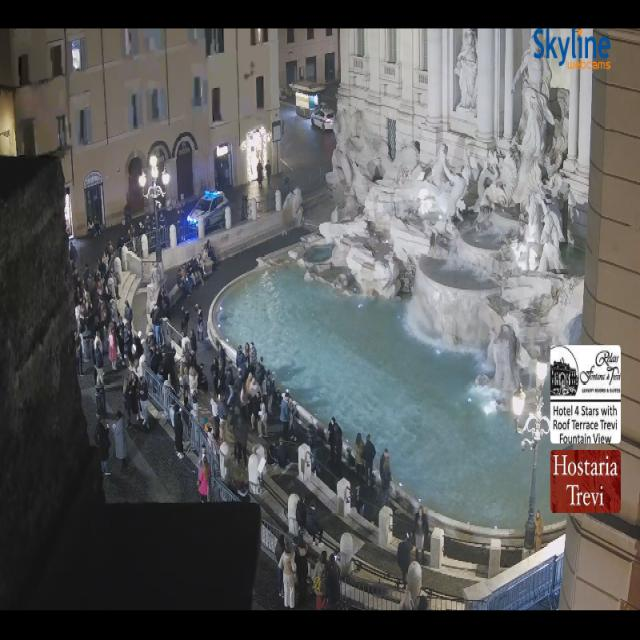person: (81, 281, 122, 352), (80, 275, 119, 347), (84, 289, 114, 355), (83, 253, 120, 305), (176, 348, 207, 407), (84, 250, 120, 298), (114, 313, 139, 367), (114, 315, 139, 368), (87, 295, 108, 358), (86, 284, 107, 343), (83, 249, 111, 293), (159, 347, 179, 404), (93, 281, 108, 355), (279, 544, 296, 608), (226, 352, 247, 402), (85, 255, 107, 301), (150, 294, 168, 349), (100, 286, 116, 347), (203, 418, 222, 469), (220, 365, 241, 411), (177, 255, 203, 292), (220, 364, 243, 405), (83, 280, 99, 338), (124, 206, 143, 254), (312, 551, 327, 610), (90, 280, 103, 347), (87, 259, 105, 306), (97, 254, 115, 301), (112, 410, 127, 466), (296, 536, 308, 606), (414, 506, 428, 563), (305, 500, 323, 544), (93, 302, 107, 358), (229, 377, 248, 418), (78, 285, 92, 340), (96, 421, 110, 475), (234, 410, 247, 468), (85, 259, 101, 306), (93, 284, 105, 346), (397, 533, 411, 586), (237, 347, 253, 393), (247, 359, 268, 394), (326, 554, 339, 610), (116, 317, 131, 365), (80, 289, 94, 340), (85, 276, 97, 334), (82, 276, 95, 329), (94, 254, 107, 306), (184, 352, 202, 389), (263, 372, 278, 416), (139, 210, 166, 234), (90, 260, 104, 306), (132, 331, 146, 377), (236, 360, 251, 402), (380, 449, 391, 506), (210, 359, 227, 395), (227, 366, 241, 409), (150, 288, 167, 323), (93, 251, 108, 290), (198, 457, 211, 502), (109, 267, 121, 315), (308, 425, 319, 477), (136, 213, 162, 235), (256, 372, 267, 424), (236, 355, 251, 393), (128, 373, 139, 424), (364, 435, 375, 486), (72, 267, 82, 323), (173, 404, 183, 458), (78, 263, 92, 301), (138, 376, 148, 428), (73, 264, 87, 301), (218, 395, 229, 442), (229, 377, 244, 411), (99, 299, 108, 355), (204, 418, 219, 451), (88, 330, 97, 385), (280, 390, 290, 439), (116, 315, 126, 363), (244, 373, 259, 404), (93, 312, 104, 354), (250, 391, 261, 433), (179, 365, 190, 407), (145, 333, 158, 368), (183, 335, 196, 369), (152, 306, 163, 346), (144, 210, 166, 230), (181, 263, 196, 292), (198, 444, 211, 477), (224, 364, 235, 403), (95, 333, 103, 386), (73, 267, 84, 305), (144, 331, 157, 362), (354, 434, 363, 478), (123, 375, 131, 424), (188, 258, 203, 284), (266, 372, 275, 415), (124, 322, 133, 365), (236, 346, 247, 381), (211, 392, 219, 440), (261, 369, 271, 407), (328, 417, 336, 464), (176, 272, 191, 297), (73, 266, 83, 303), (288, 396, 296, 442), (276, 438, 288, 468), (109, 324, 117, 369), (158, 286, 170, 316), (150, 210, 167, 231), (75, 330, 83, 374), (149, 347, 162, 374), (240, 385, 250, 420), (130, 223, 142, 252), (196, 364, 208, 393), (255, 357, 265, 391), (296, 494, 306, 528), (132, 222, 144, 250), (535, 510, 543, 552), (335, 422, 343, 464), (216, 341, 226, 374), (259, 397, 267, 438), (210, 359, 219, 395), (152, 288, 164, 315), (400, 589, 415, 610), (248, 374, 260, 400), (107, 299, 119, 325), (204, 241, 216, 267), (133, 331, 144, 359), (195, 253, 206, 281), (75, 300, 84, 334), (282, 206, 292, 236), (107, 269, 117, 298), (181, 328, 191, 357), (188, 366, 197, 398), (112, 268, 121, 299), (237, 480, 250, 501), (217, 370, 226, 399), (103, 242, 112, 271), (97, 254, 107, 280), (196, 304, 203, 341), (249, 342, 257, 374), (356, 485, 364, 517), (244, 372, 253, 398), (267, 443, 277, 466), (244, 343, 250, 380), (379, 449, 389, 471), (189, 329, 197, 356), (181, 307, 189, 334), (144, 213, 154, 234), (82, 262, 92, 282), (127, 224, 135, 249), (104, 241, 112, 265), (124, 300, 132, 324), (256, 160, 263, 187), (69, 242, 78, 263), (278, 560, 283, 597), (117, 235, 125, 258), (236, 346, 243, 372), (416, 595, 427, 610), (107, 240, 114, 262), (203, 240, 211, 259), (177, 203, 185, 222), (283, 176, 291, 195), (215, 167, 224, 183), (159, 210, 167, 228), (265, 161, 271, 184), (203, 418, 211, 435), (87, 219, 95, 236)
